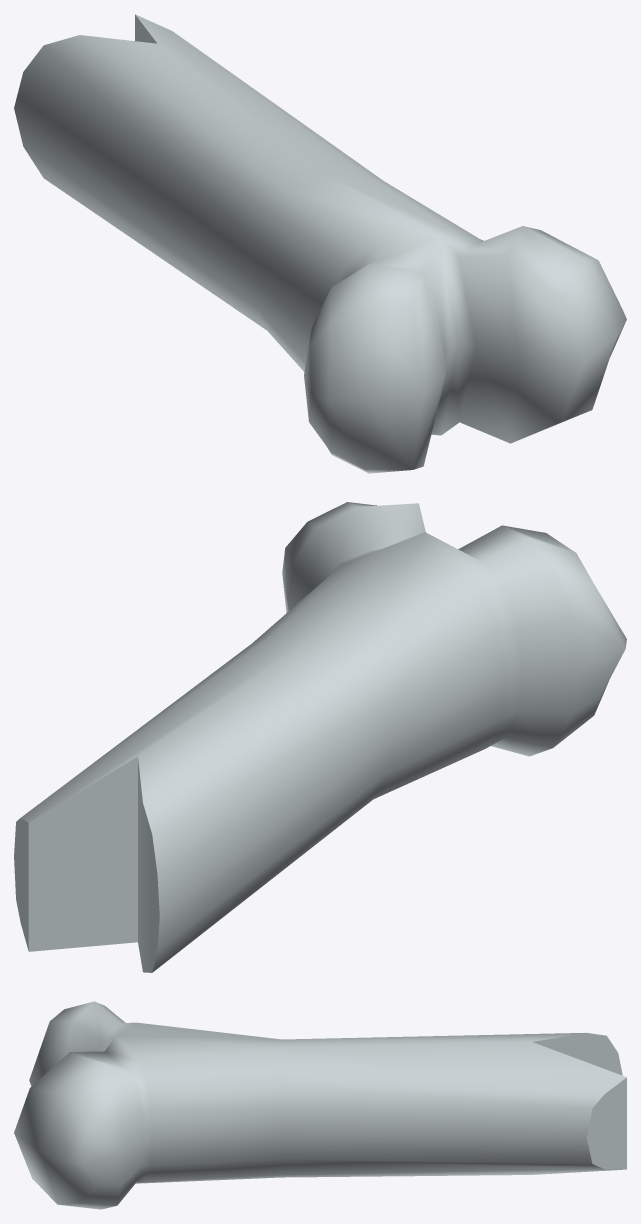
File: bone_02.fbx
3 views of the same model, one above another, from view 1: azimuth 30°, elevation 25°; view 2: azimuth 150°, elevation 25°; view 3: azimuth 270°, elevation 25° (orthographic). The views are drawn at different scales.
Visible parts, largest first — view 1: bone_02; view 2: bone_02; view 3: bone_02.
Part boxes in pixels (<box>): bone_02: <box>14,14,626,473</box>; bone_02: <box>14,502,626,972</box>; bone_02: <box>14,1001,626,1209</box>.
Bounding box in the file's own units: 0.131 × 0.0817 × 0.2911.
Materials: 1 (1 with a texture image).
